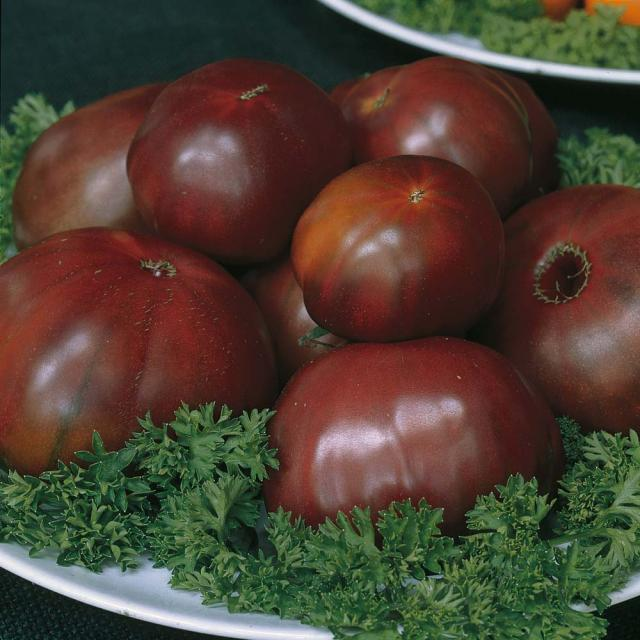apple: (124, 57, 340, 262), (302, 154, 508, 350)
